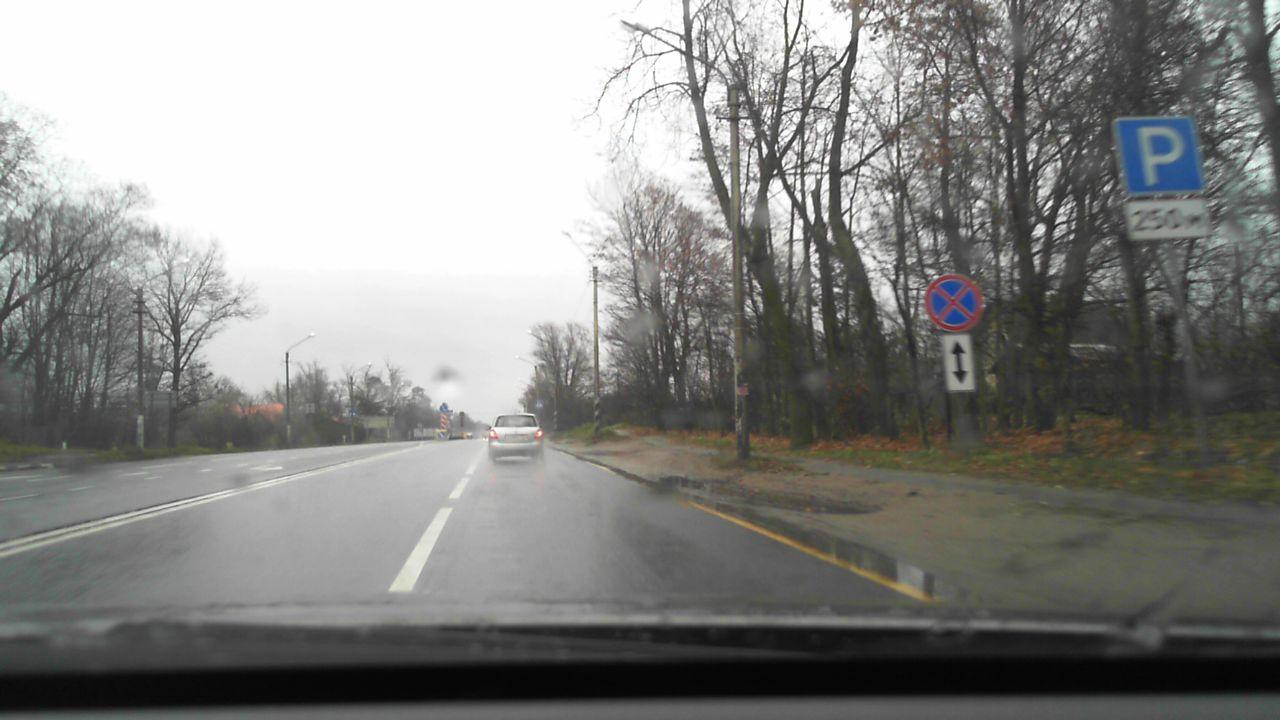3_27: (922, 273, 984, 332)
6_4: (1109, 114, 1204, 191)
8_1_1: (1121, 196, 1214, 241)
8_2_4: (943, 336, 976, 391)
